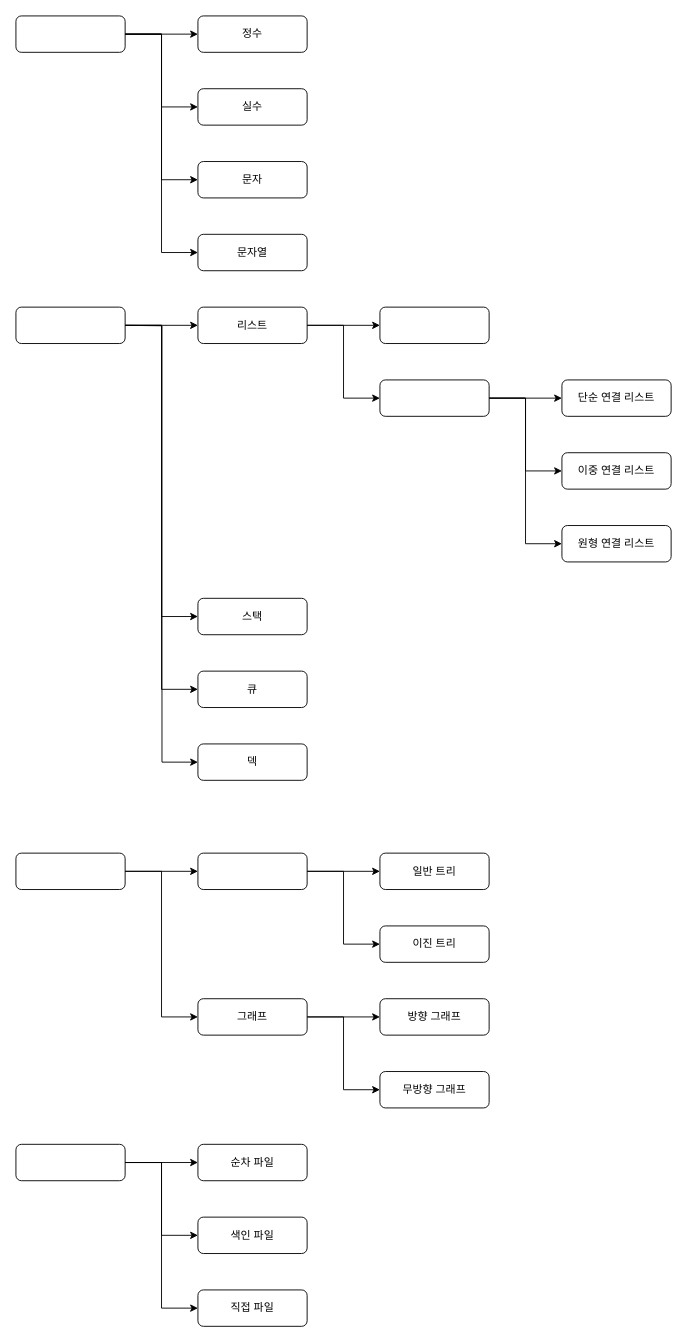
Image size: 687x1342. Some labels were removed from this diagram. Here are the shapes that lost their labels. From the top down, the centre of each, then its label:
At (70,33): "단순 구조".
At (70,325): "선형 구조".
At (434,325): "순차 리스트".
At (434,397): "연결 리스트".
At (70,871): "비선형 구조".
At (252,871): "트리".
At (70,1162): "파일 구조".
